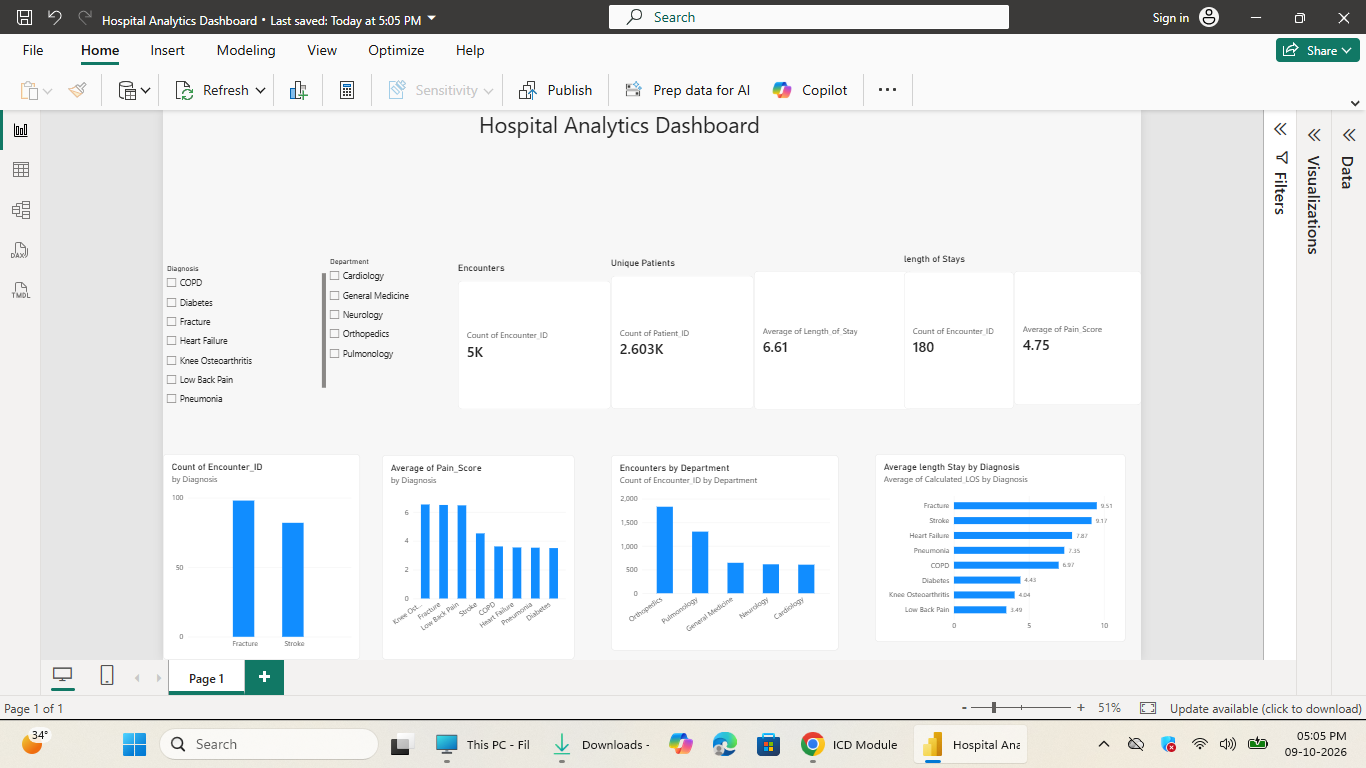

This screenshot's page, from the dashboard's own definition file:
{"tool":"powerbi","page":{"name":"Page 1","canvas":[1920,1080],"ordinal":0},"visuals":[{"type":"cardVisual","title":"Encounters","fields":{"Data":["CountNonNull(Hospital_Analytics_Project_2.Encounter_ID)"]},"box":[578.9,298.1,300.2,289.4],"z":0},{"type":"cardVisual","title":"Unique Patients","fields":{"Data":["Count(Hospital_Analytics_Project_2.Patient_ID)"]},"box":[879.1,289.4,280.8,298.1],"z":1},{"type":"cardVisual","fields":{"Data":["Avg(Hospital_Analytics_Project_2.Length_of_Stay)"]},"box":[1159.9,315.4,311,272.2],"z":2},{"type":"cardVisual","fields":{"Data":["Avg(Hospital_Analytics_Project_2.Pain_Score)"]},"box":[1671.8,315.4,250.6,263.5],"z":3},{"type":"cardVisual","title":"length of Stays","fields":{"Data":["CountNonNull(Hospital_Analytics_Project_2.Encounter_ID)"]},"box":[1455.8,280.8,216,306.7],"z":4},{"type":"clusteredBarChart","title":"Average length Stay by Diagnosis","fields":{"Category":["Hospital_Analytics_Project_2.Diagnosis"],"Y":["Avg(Hospital_Analytics_Project_2.Calculated_LOS)"]},"box":[1397.5,676.1,492.5,369.4],"z":5},{"type":"clusteredColumnChart","fields":{"Category":["Hospital_Analytics_Project_2.Diagnosis"],"Y":["CountNonNull(Hospital_Analytics_Project_2.Encounter_ID)"]},"box":[0,676.1,386.6,403.9],"z":6},{"type":"clusteredColumnChart","fields":{"Category":["Hospital_Analytics_Project_2.Diagnosis"],"Y":["Avg(Hospital_Analytics_Project_2.Pain_Score)"]},"box":[429.8,678.2,378,401.8],"z":7},{"type":"clusteredColumnChart","title":" Encounters by Department ","fields":{"Category":["Hospital_Analytics_Project_2.Department"],"Y":["CountNonNull(Hospital_Analytics_Project_2.Encounter_ID)"]},"box":[879.1,678.2,447.1,384.5],"z":8},{"type":"slicer","fields":{"Values":["Hospital_Analytics_Project_2.Diagnosis"]},"box":[0,302.4,320,280],"z":9},{"type":"slicer","fields":{"Values":["Hospital_Analytics_Project_2.Department"]},"box":[319.7,289.4,300.2,289.4],"z":10},{"type":"textbox","box":[619.9,0,1080,280.8],"z":12}]}

Visuals, with their boxes on the page's 1920x1080 design canvas (x1, y1, x2, y2). These are canvas units, not pixel positions in the 1366x768 screenshot, which may show the page scaled, cropped or inside an application window:
"Encounters" cardVisual: [579, 298, 879, 588]
"Unique Patients" cardVisual: [879, 289, 1160, 588]
cardVisual - Avg(Hospital_Analytics_Project_2.Length_of_Stay): [1160, 315, 1471, 588]
cardVisual - Avg(Hospital_Analytics_Project_2.Pain_Score): [1672, 315, 1922, 579]
"length of Stays" cardVisual: [1456, 281, 1672, 588]
"Average length Stay by Diagnosis" clusteredBarChart: [1398, 676, 1890, 1046]
clusteredColumnChart - Hospital_Analytics_Project_2.Diagnosis x CountNonNull(Hospital_Analytics_Project_2.Encounter_ID): [0, 676, 387, 1080]
clusteredColumnChart - Hospital_Analytics_Project_2.Diagnosis x Avg(Hospital_Analytics_Project_2.Pain_Score): [430, 678, 808, 1080]
" Encounters by Department " clusteredColumnChart: [879, 678, 1326, 1063]
slicer - Hospital_Analytics_Project_2.Diagnosis: [0, 302, 320, 582]
slicer - Hospital_Analytics_Project_2.Department: [320, 289, 620, 579]
textbox: [620, 0, 1700, 281]
